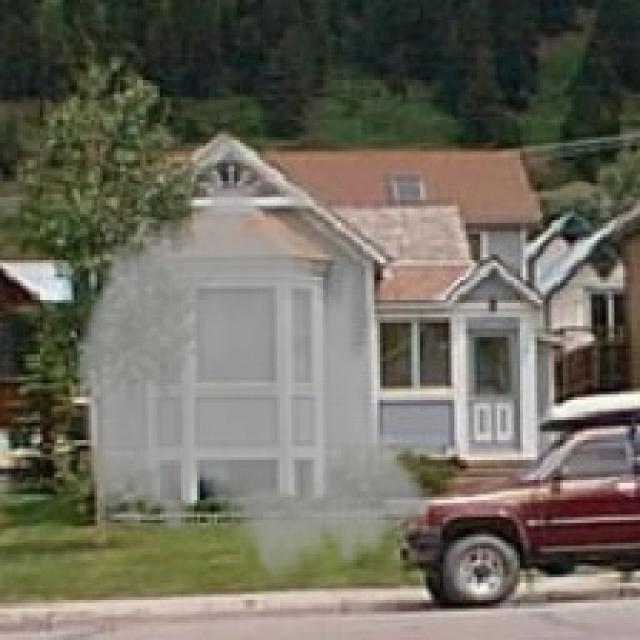smoke: (72, 169, 437, 594)
